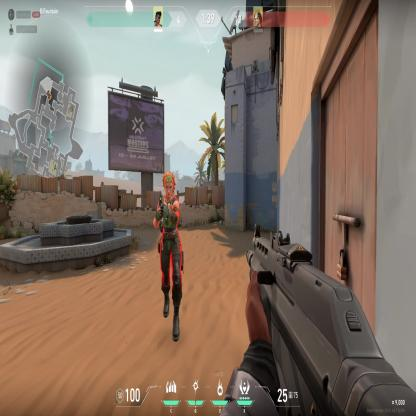enemy: (152, 170, 186, 344)
